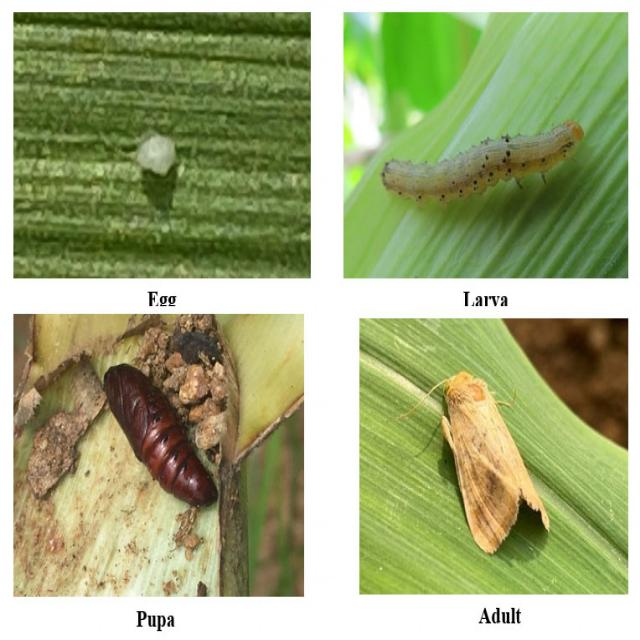cornborer-Adult-: (418, 358, 556, 557)
cornborer-Larva-: (378, 112, 594, 218)
